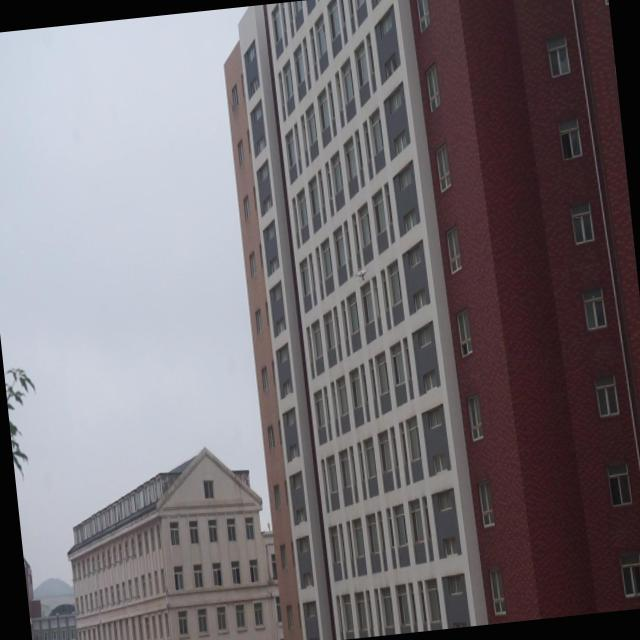drone: (353, 263, 370, 282)
